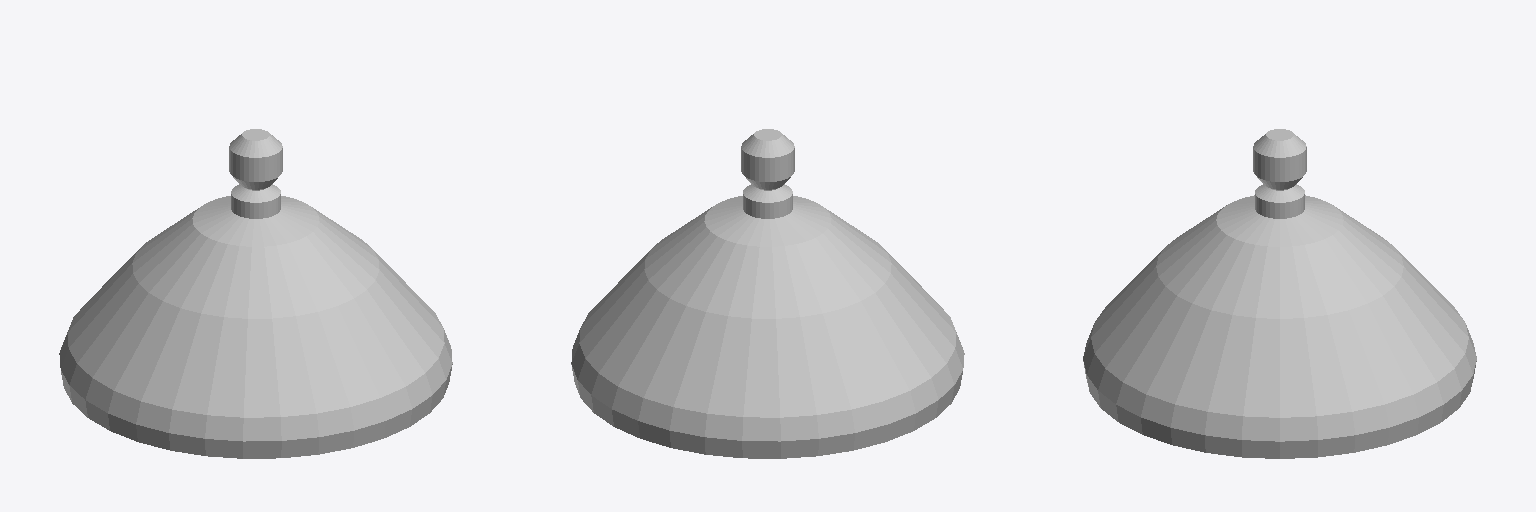
The model's file is roof.obj.
3 views of the same model, side by side, from view 1: azimuth 30°, elevation 25°; view 2: azimuth 150°, elevation 25°; view 3: azimuth 270°, elevation 25° (orthographic).
Visible parts, largest first — view 1: Cylinder.002_Cylinder.003; view 2: Cylinder.002_Cylinder.003; view 3: Cylinder.002_Cylinder.003.
Boxes of the visible parts, x1=… form: Cylinder.002_Cylinder.003: x1=59, y1=129, x2=452, y2=458; Cylinder.002_Cylinder.003: x1=571, y1=129, x2=964, y2=458; Cylinder.002_Cylinder.003: x1=1083, y1=129, x2=1476, y2=458.
Size of the model in its own units: 1.26 by 0.8559 by 1.26.